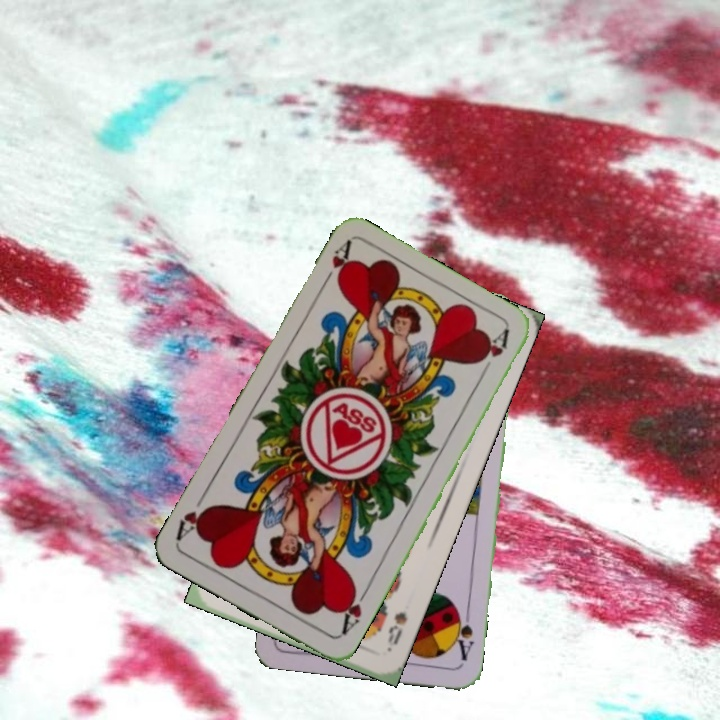HA: (317, 238, 355, 292), (337, 582, 371, 638)
S8: (382, 607, 410, 655)
SA: (449, 604, 476, 664)
